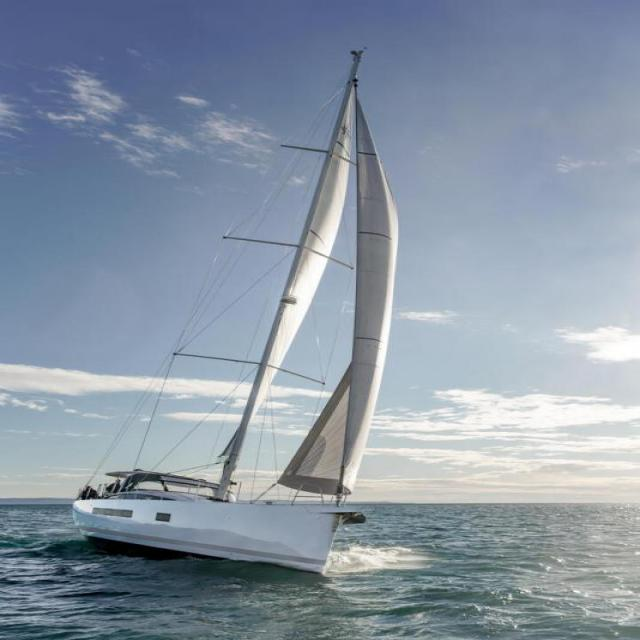boat: (78, 35, 460, 594)
